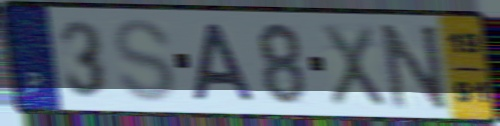3: (56, 18, 108, 101)
8: (254, 20, 308, 107)
A: (190, 21, 259, 104)
N: (378, 21, 452, 112)
S: (111, 16, 179, 106)
X: (318, 20, 389, 110)
